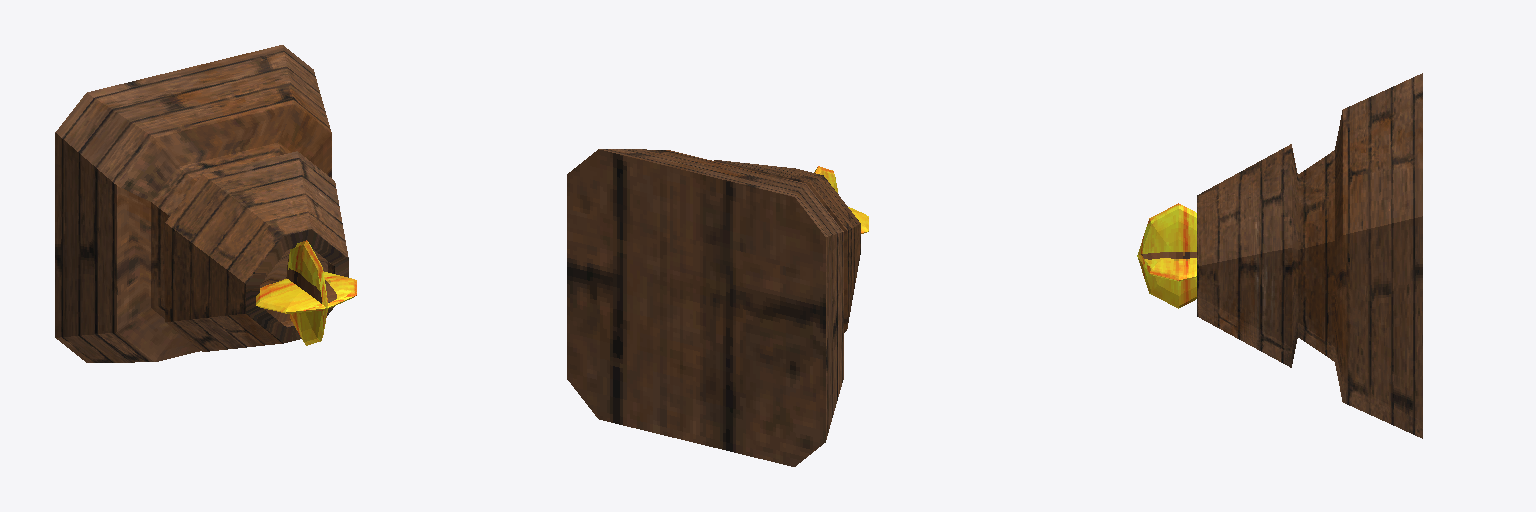
3 views of the same model, side by side, from view 1: azimuth 30°, elevation 25°; view 2: azimuth 150°, elevation 25°; view 3: azimuth 270°, elevation 25° (orthographic).
Visible parts, largest first — view 1: smd_mesh348; view 2: smd_mesh348; view 3: smd_mesh348.
Part boxes in pixels (bbox=[...]): smd_mesh348: bbox=[55, 45, 356, 362]; smd_mesh348: bbox=[567, 149, 868, 466]; smd_mesh348: bbox=[1137, 73, 1422, 438].
Bounding box in the file's own units: 256 × 256 × 245.
Materials: 1 (1 with a texture image).